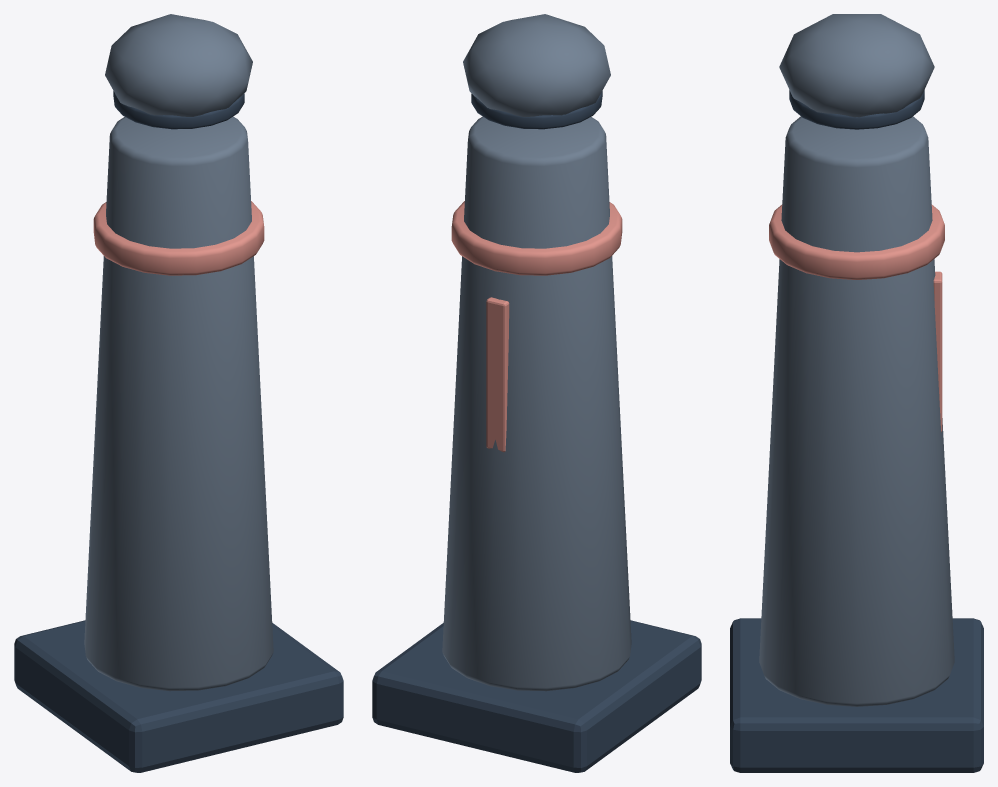
The model's file is Totem_A.fbx.
The picture shows the model from 3 angles, left to right: view 1: azimuth 30°, elevation 25°; view 2: azimuth 150°, elevation 25°; view 3: azimuth 270°, elevation 25°; orthographic projection. The views are drawn at different scales.
Visible parts, largest first — view 1: Totem_A; view 2: Totem_A; view 3: Totem_A.
Boxes of the visible parts, x1,y1,x2,y2 form: Totem_A: (14,14,343,772); Totem_A: (372,14,701,772); Totem_A: (730,14,983,772).
Size of the model in its own units: 1.5 by 4.58 by 1.5.
